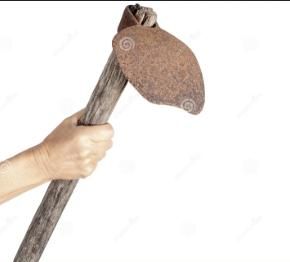HOUE: (14, 4, 223, 262)
